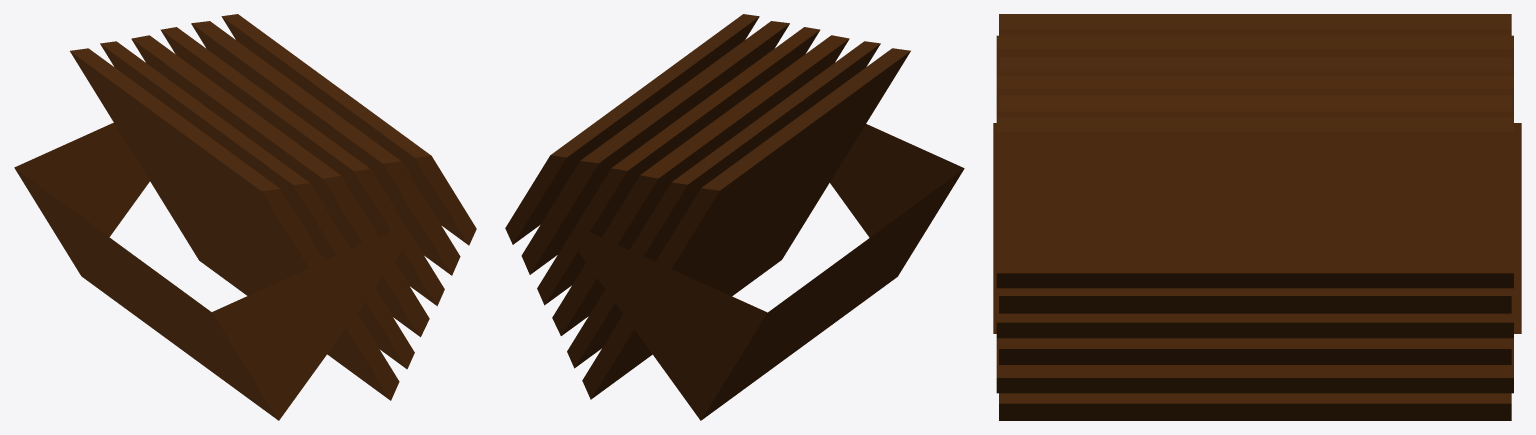
Rendered from chevron_4.obj.
3 views of the same model, side by side, from view 1: azimuth 30°, elevation 25°; view 2: azimuth 150°, elevation 25°; view 3: azimuth 270°, elevation 25° (orthographic). The views are drawn at different scales.
Visible parts, largest first — view 1: chevron_4; view 2: chevron_4; view 3: chevron_4.
Boxes of the visible parts, x1,y1,x2,y2 form: chevron_4: (14, 14, 476, 420); chevron_4: (505, 14, 964, 420); chevron_4: (993, 14, 1521, 420).
Bounding box in the file's own units: 0.2759 × 0.2391 × 0.3548.
